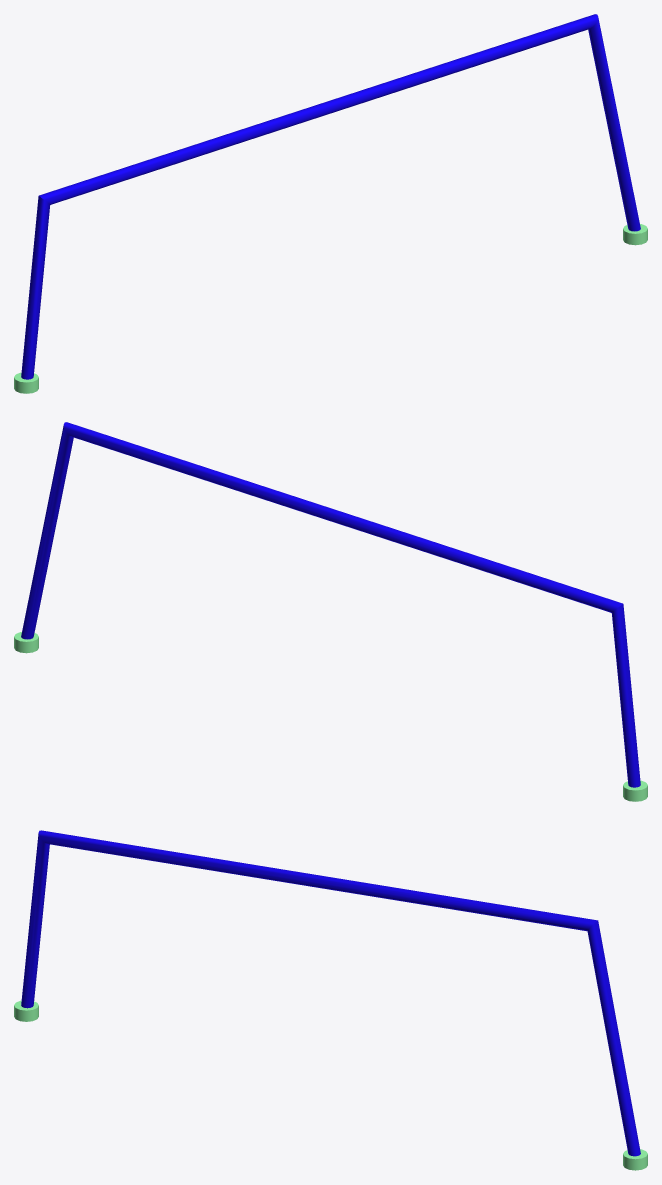
3 renders of one model, top to bottom at view 1: azimuth 30°, elevation 25°; view 2: azimuth 150°, elevation 25°; view 3: azimuth 330°, elevation 25°, orthographic.
Visible parts, largest first — view 1: Line007; view 2: Line007; view 3: Line007.
Boxes of the visible parts, x1=… form: Line007: x1=14, y1=14, x2=647, y2=393; Line007: x1=14, y1=422, x2=647, y2=801; Line007: x1=14, y1=830, x2=647, y2=1170.
Bounding box in the file's own units: 291 × 104 × 10.
